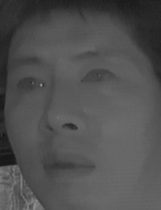eye: (77, 66, 121, 87), (13, 72, 49, 94)
mouth: (40, 149, 96, 184)
